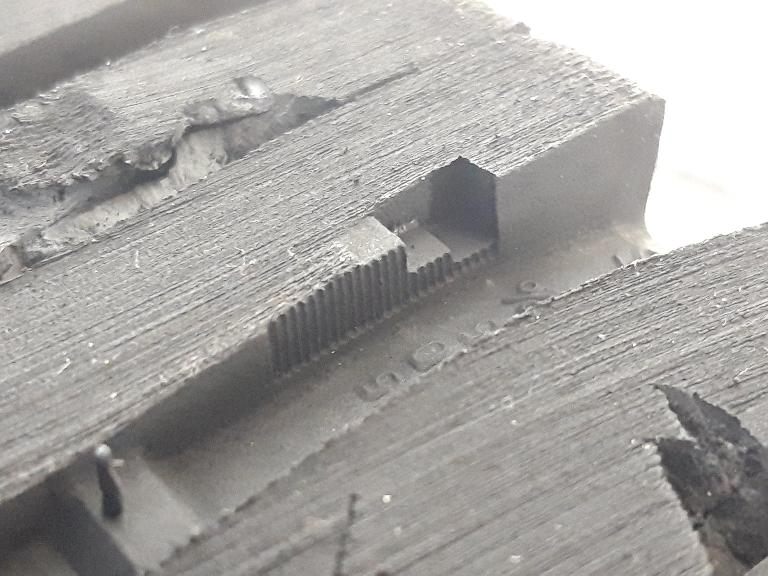temoin:50: (329, 147, 514, 352)
